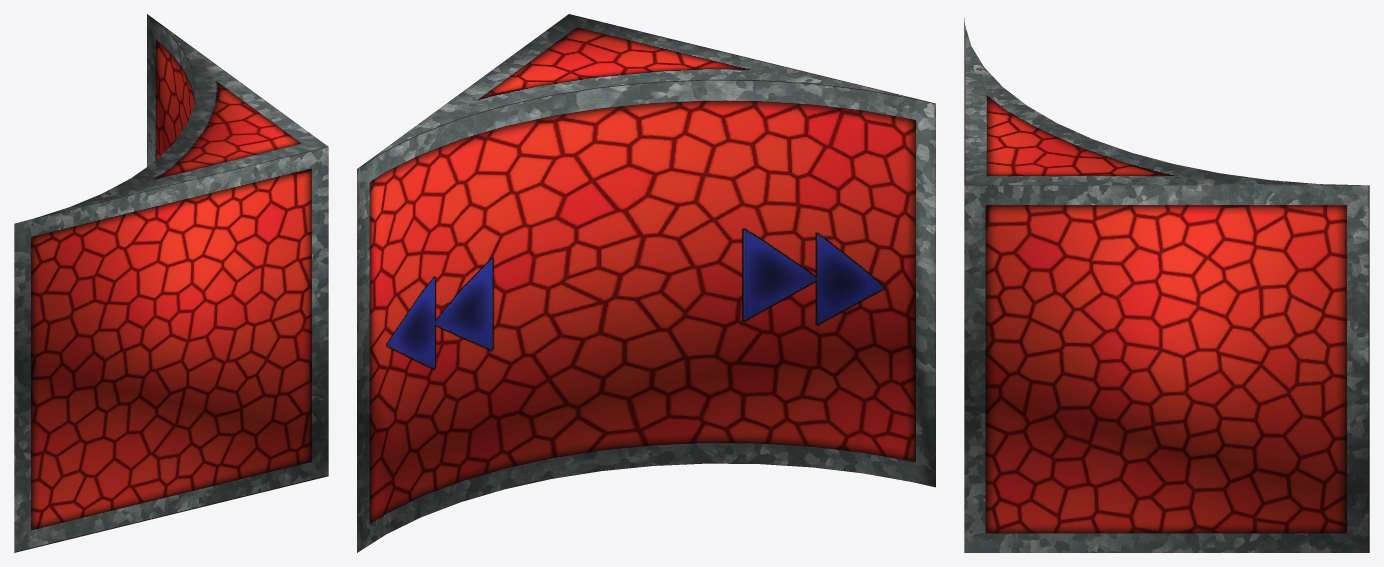
3 renders of one model, left to right at view 1: azimuth 30°, elevation 25°; view 2: azimuth 150°, elevation 25°; view 3: azimuth 270°, elevation 25°, orthographic. The views are drawn at different scales.
Parts seen in each view (by area): view 1: GS_up; view 2: GS_up; view 3: GS_up.
Boxes of the visible parts, x1=… form: GS_up: x1=14, y1=14, x2=328, y2=552; GS_up: x1=357, y1=14, x2=935, y2=552; GS_up: x1=964, y1=18, x2=1369, y2=552.
Size of the model in its own units: 1 by 1 by 1.
